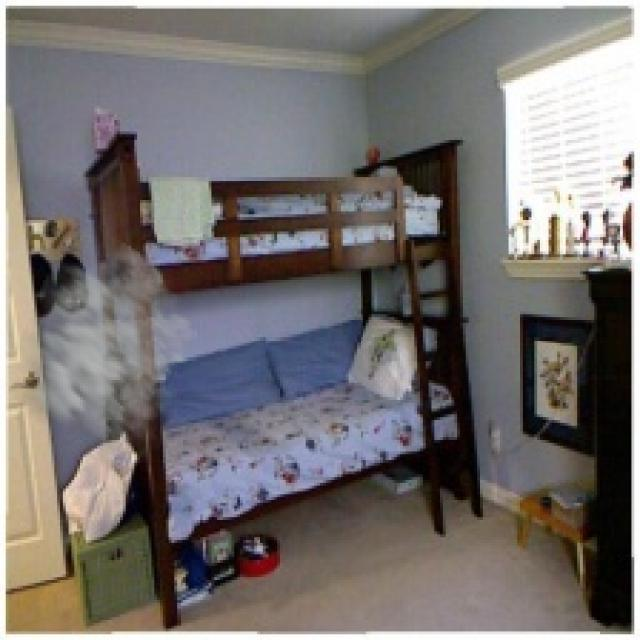Smoke: (0, 232, 200, 459)
